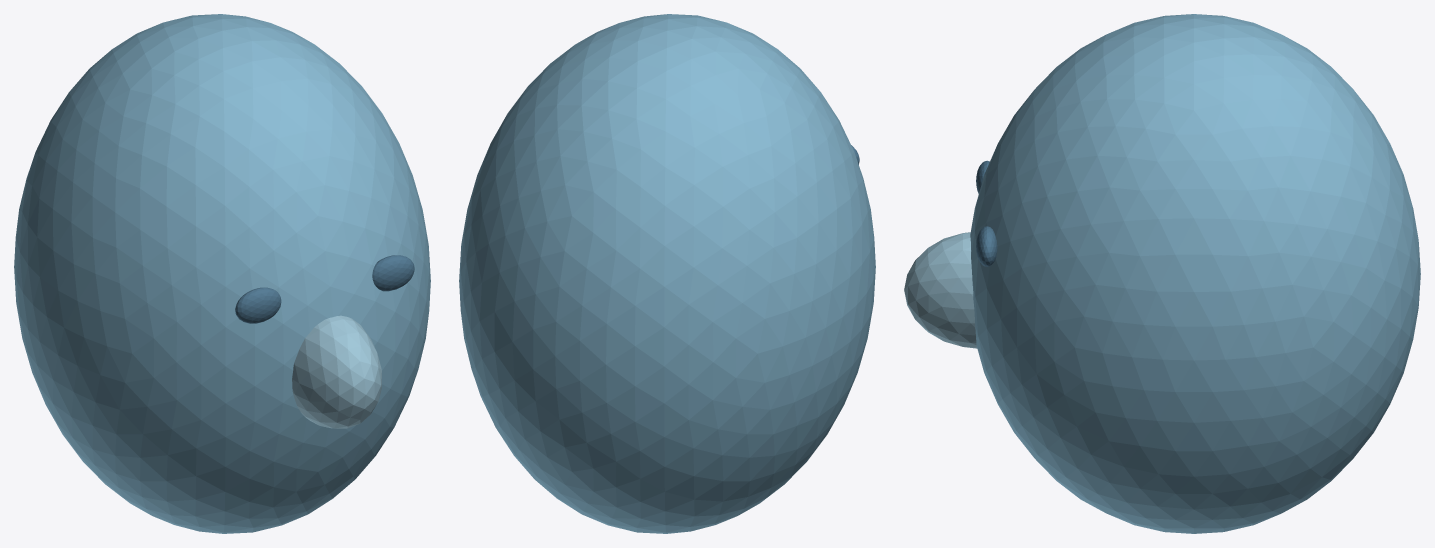
File: head.glb
The picture shows the model from 3 angles, left to right: view 1: azimuth 30°, elevation 25°; view 2: azimuth 150°, elevation 25°; view 3: azimuth 270°, elevation 25°; orthographic projection.
Parts seen in each view (by area): view 1: head_part_00, head_part_01, head_part_02, head_part_03; view 2: head_part_00; view 3: head_part_00, head_part_01, head_part_03.
Boxes of the visible parts, left/top/right/bottom form: head_part_00: left=14, top=14, right=430, bottom=533; head_part_01: left=292, top=315, right=381, bottom=428; head_part_02: left=235, top=287, right=281, bottom=323; head_part_03: left=372, top=255, right=414, bottom=291; head_part_00: left=459, top=14, right=875, bottom=533; head_part_00: left=970, top=14, right=1420, bottom=533; head_part_01: left=904, top=232, right=977, bottom=348; head_part_03: left=976, top=226, right=997, bottom=266.
Size of the model in its own units: 0.37 by 0.49 by 0.467.
